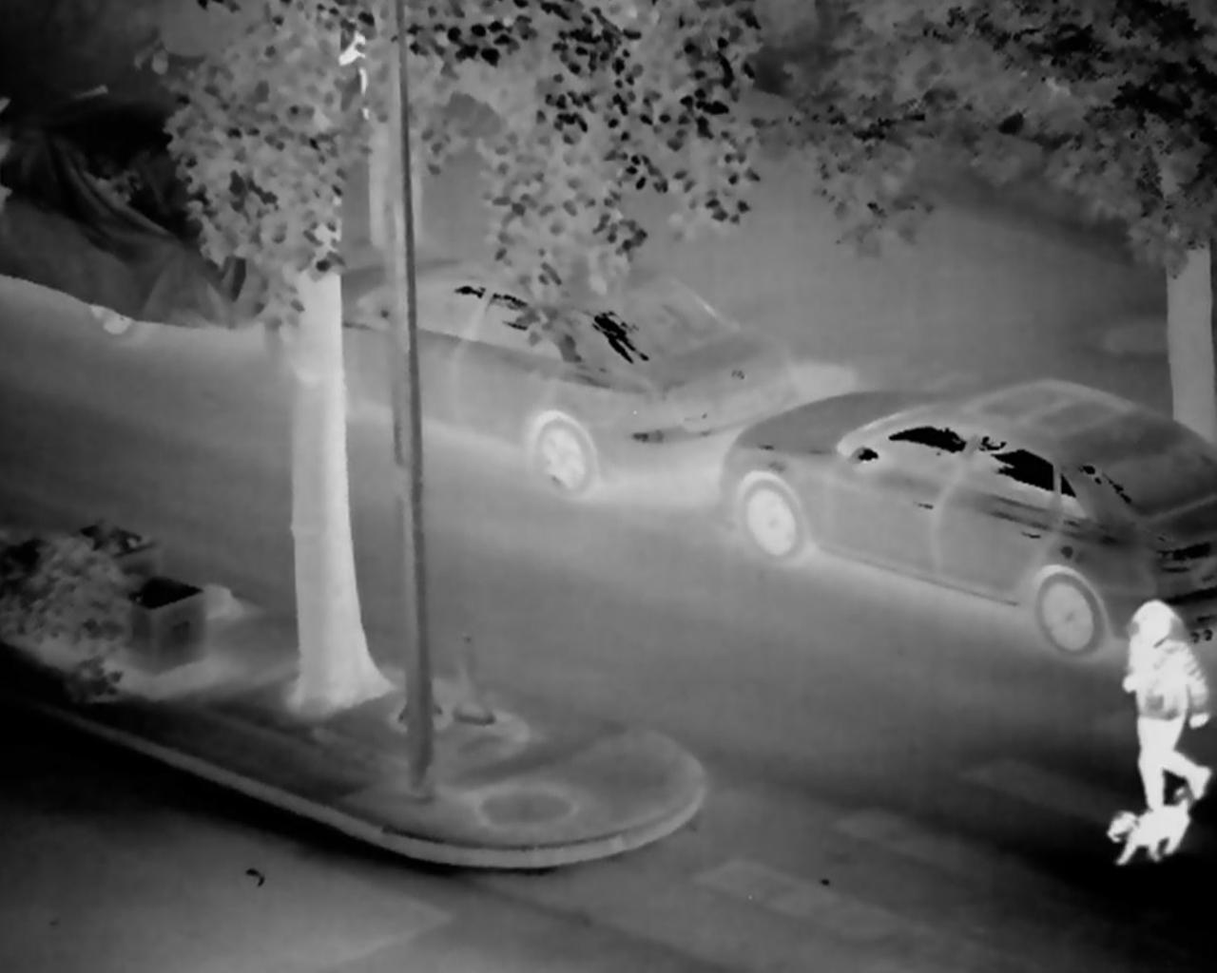person: (1118, 597, 1212, 849)
